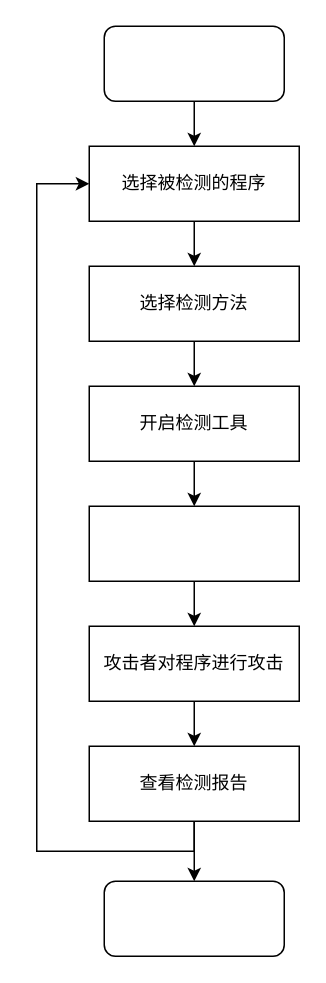
The diagram is 326 pixels wide and 983 high, and some of its shapes have lost their labels. Each missing label, with the centre of its shape:
"关闭系统" goes at (193,918).
"开启系统" goes at (193,63).
"映射到网络端口" goes at (193,543).
